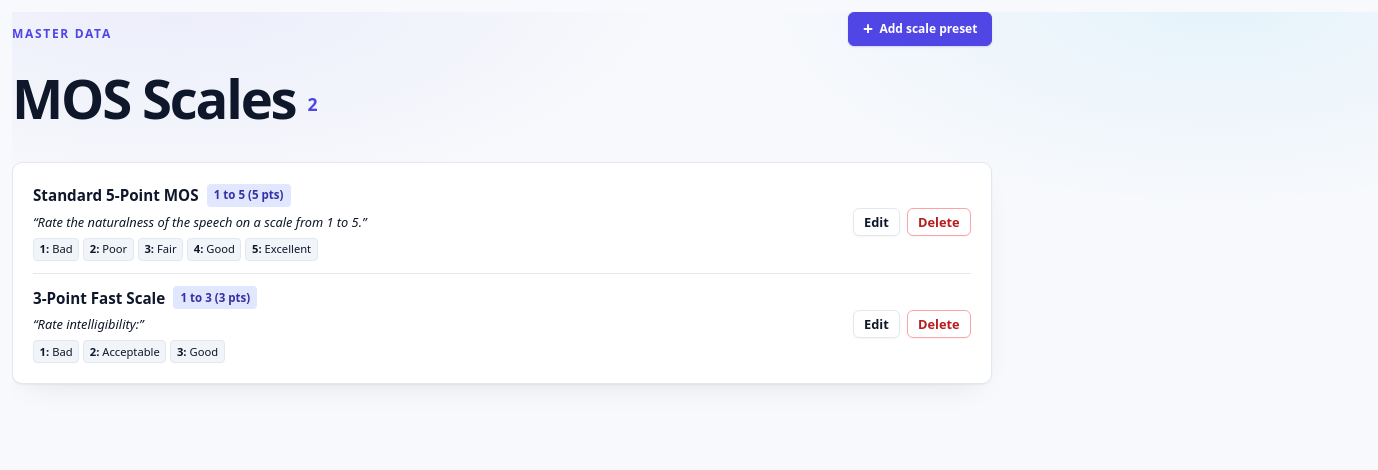
Test: MOSScalesPage Inline CRUD UI › displays conflict error when deleting a referenced scale preset
The image size is (1378, 470).
Expected: the text "Standard 5-Point MOS" is shown, left=33, top=183, right=198, bottom=208
Click the 1st button "Delete": (939, 222) left=907, top=208, right=971, bottom=236
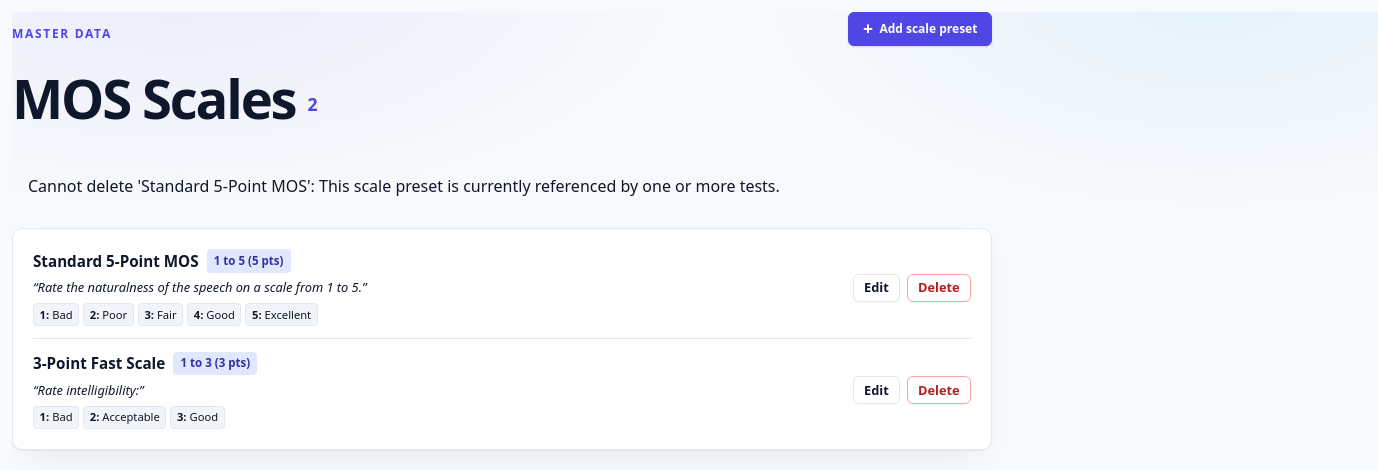
Expected: the message shows "referenced by one or more tests", left=28, top=175, right=780, bottom=197
